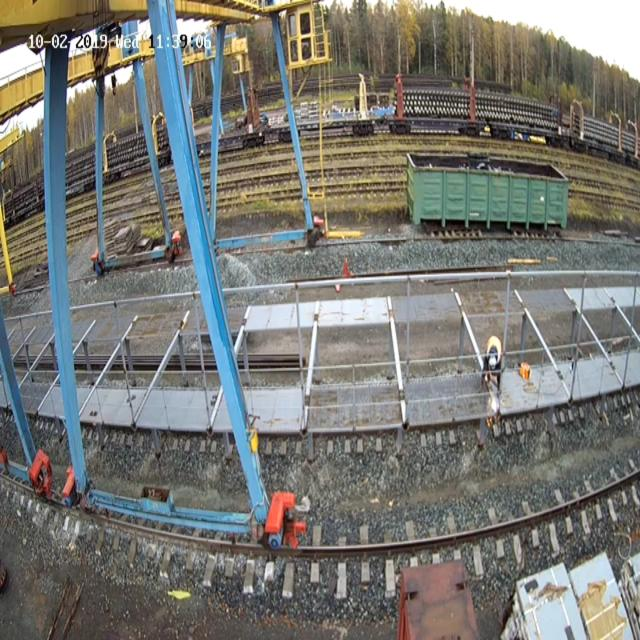Helmet: (486, 335, 502, 369), (172, 230, 182, 243)
Person: (479, 332, 505, 399), (168, 229, 182, 263)
